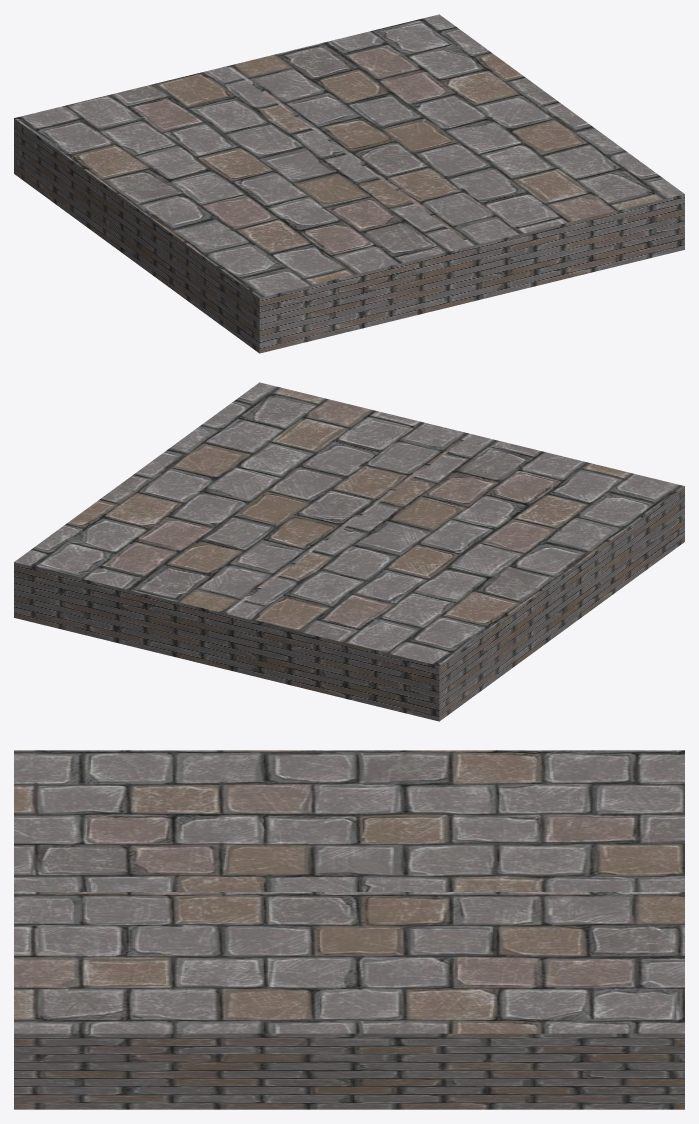
The model's file is ground_stone_01.fbx.
3 views of the same model, one above another, from view 1: azimuth 30°, elevation 25°; view 2: azimuth 150°, elevation 25°; view 3: azimuth 270°, elevation 25° (orthographic). The views are drawn at different scales.
Parts seen in each view (by area): view 1: 4x4 Stone Floor.001; view 2: 4x4 Stone Floor.001; view 3: 4x4 Stone Floor.001.
Part boxes in pixels (x1,y1,x2,y2): 4x4 Stone Floor.001: (14,14,684,353); 4x4 Stone Floor.001: (14,382,684,721); 4x4 Stone Floor.001: (14,750,684,1109).
Bounding box in the file's own units: 400 × 50 × 400.
1 material, 1 textured.
